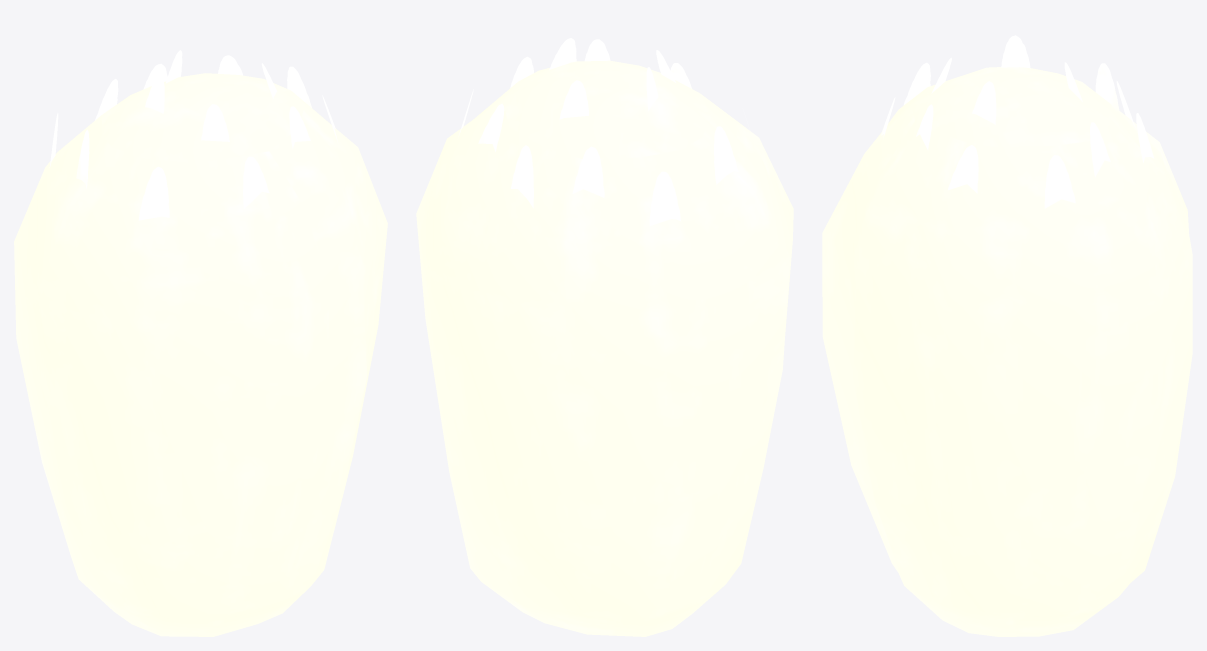
3 renders of one model, left to right at view 1: azimuth 30°, elevation 25°; view 2: azimuth 150°, elevation 25°; view 3: azimuth 270°, elevation 25°, orthographic.
Parts seen in each view (by area): view 1: SM_Cactus_Bunny_01v1_LOD0; view 2: SM_Cactus_Bunny_01v1_LOD0; view 3: SM_Cactus_Bunny_01v1_LOD0.
Part boxes in pixels (x1,y1,x2,y2): SM_Cactus_Bunny_01v1_LOD0: [14, 50, 387, 636]; SM_Cactus_Bunny_01v1_LOD0: [416, 38, 793, 636]; SM_Cactus_Bunny_01v1_LOD0: [822, 35, 1192, 636].
Bounding box in the file's own units: 0.2358 × 0.389 × 0.2247.
1 material, 1 textured.
